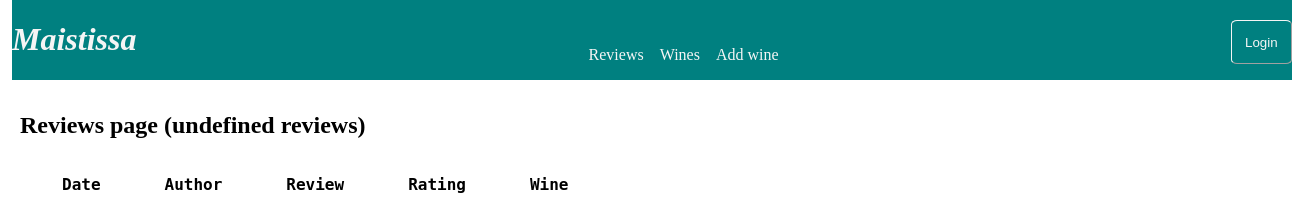
Scenario: Navigation directs to correct views › navigates to the wines page
This screenshot has width=1304, height=210.
Click the link "Wines" at (680, 54), box [660,46,700,63]
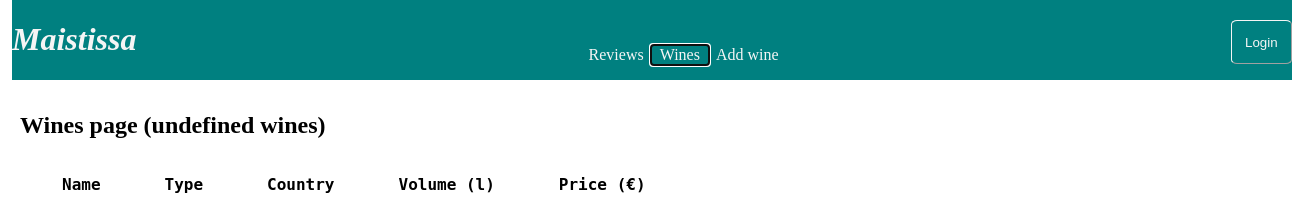
Check: the heading "Wines page (undefined wines)" is shown, box [20,112,326,138]
